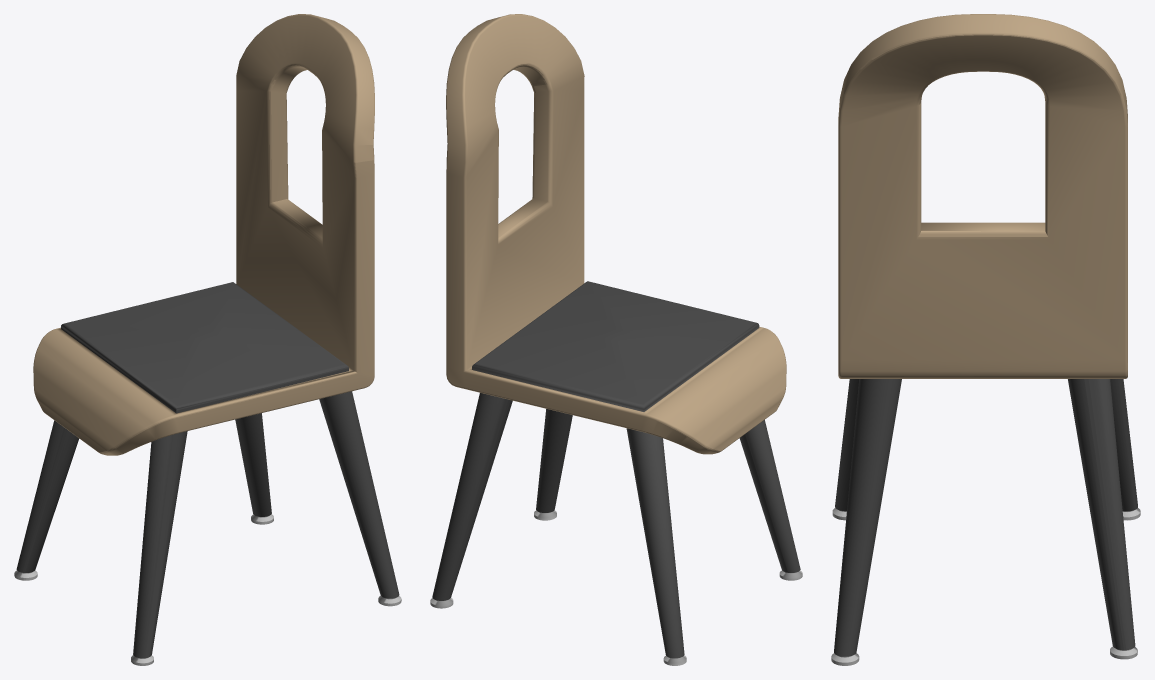
The model's file is Chair.fbx.
The picture shows the model from 3 angles, left to right: view 1: azimuth 30°, elevation 25°; view 2: azimuth 150°, elevation 25°; view 3: azimuth 270°, elevation 25°; orthographic projection. The views are drawn at different scales.
Parts seen in each view (by area): view 1: Chair; view 2: Chair; view 3: Chair.
Part boxes in pixels (x1,y1,x2,y2): Chair: (14, 14, 401, 665); Chair: (430, 14, 802, 665); Chair: (831, 14, 1140, 665).
Size of the model in its own units: 88.48 by 164 by 71.16.
